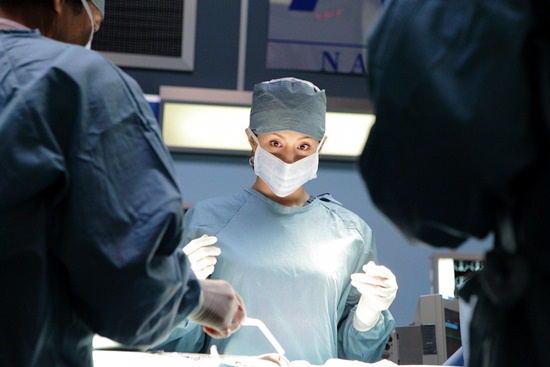mask: (252, 148, 319, 198)
